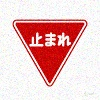Regulatory_sign_triangle: (12, 11, 92, 91)
